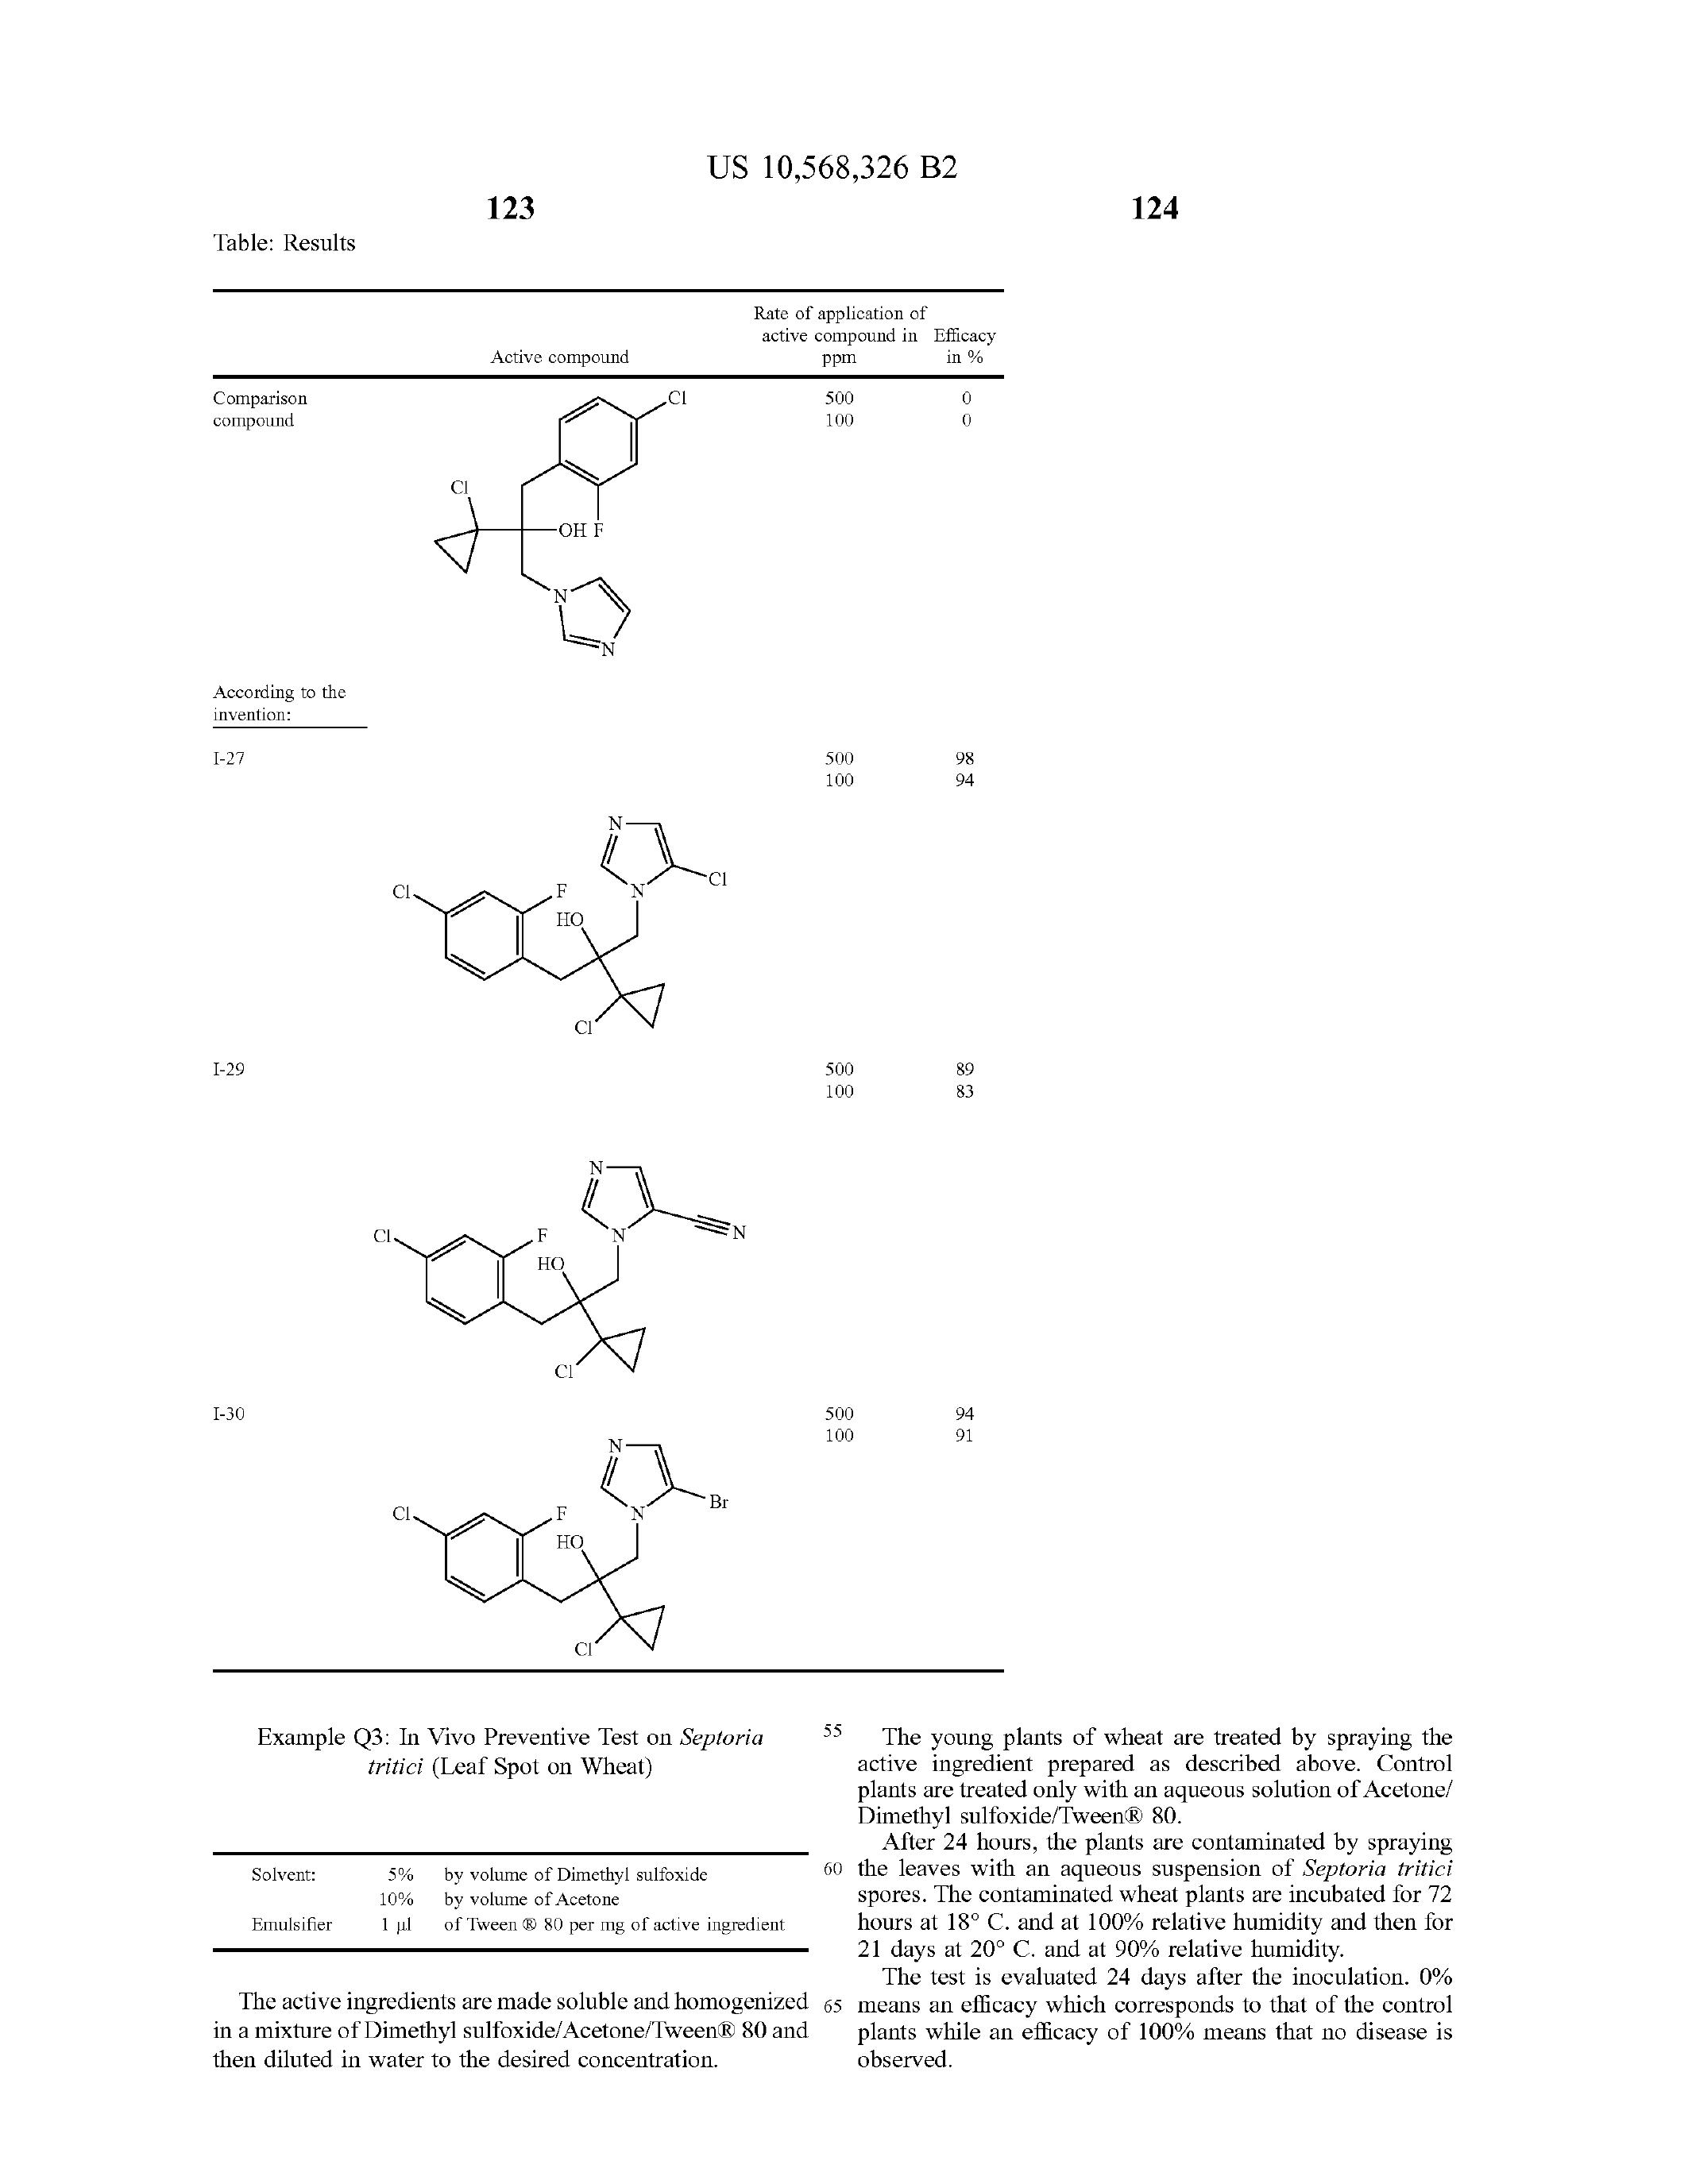relevant-structures: (372, 771, 755, 1136), (330, 1411, 824, 1650), (337, 1145, 793, 1404), (399, 390, 720, 706)
